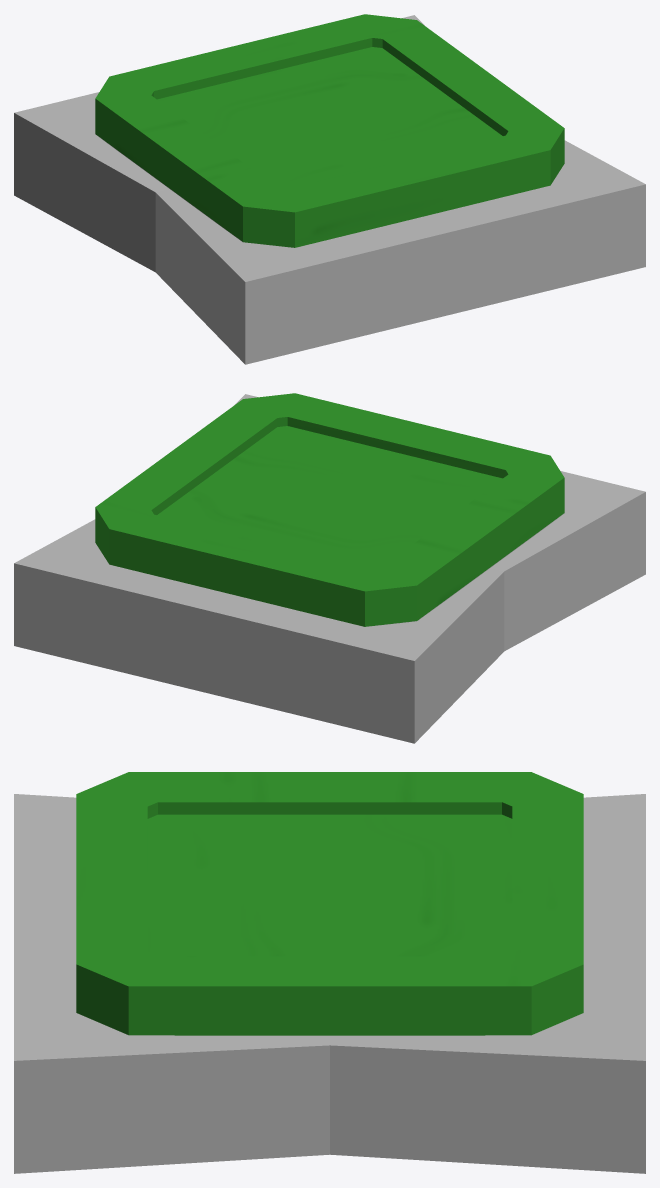
File: GameReadyPressurePlate.glb
3 renders of one model, top to bottom at view 1: azimuth 30°, elevation 25°; view 2: azimuth 150°, elevation 25°; view 3: azimuth 270°, elevation 25°, orthographic. The views are drawn at different scales.
Parts seen in each view (by area): view 1: Pressureplate, Pressureplate.1; view 2: Pressureplate, Pressureplate.1; view 3: Pressureplate, Pressureplate.1.
Part boxes in pixels (x1,y1,x2,y2): Pressureplate: (95, 14, 564, 247); Pressureplate.1: (14, 15, 645, 364); Pressureplate: (95, 393, 564, 626); Pressureplate.1: (14, 394, 645, 743); Pressureplate: (76, 772, 583, 1035); Pressureplate.1: (14, 794, 645, 1173).
Bounding box in the file's own units: 3.42 × 0.9632 × 3.42.
Materials: 1 (1 with a texture image).
